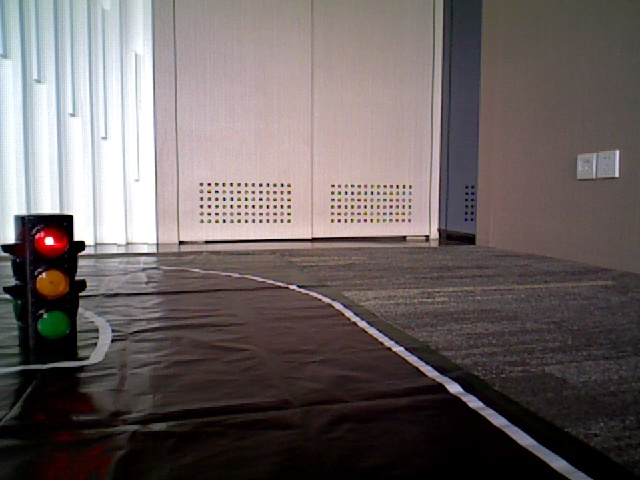red: (20, 219, 73, 346)
